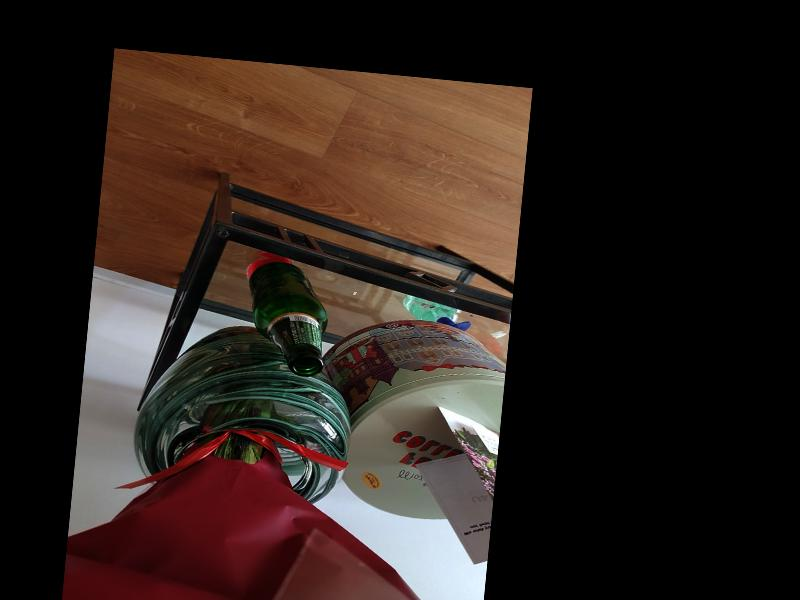Beer: (240, 259, 333, 377)
